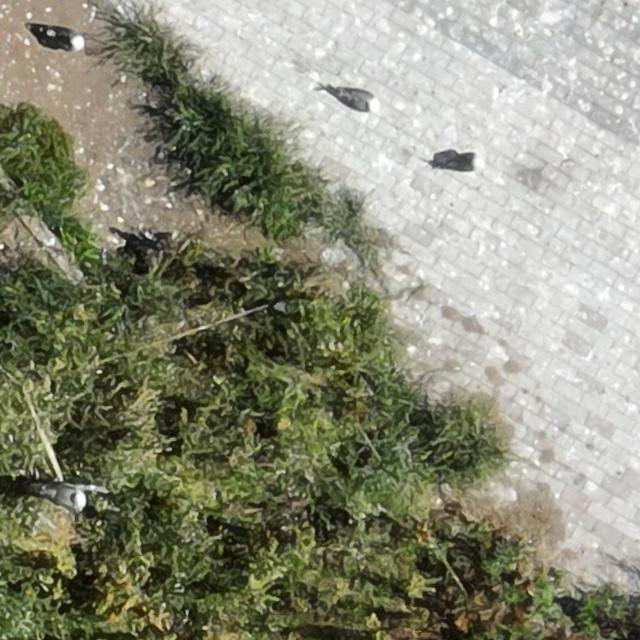umineko: (331, 88, 379, 111), (40, 487, 84, 509), (46, 29, 86, 50), (442, 154, 486, 170)
